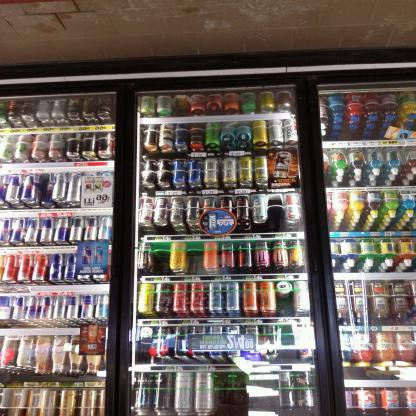empty_space: (250, 372, 278, 416), (213, 372, 233, 416), (233, 372, 250, 416), (279, 326, 297, 363), (267, 194, 283, 232)
